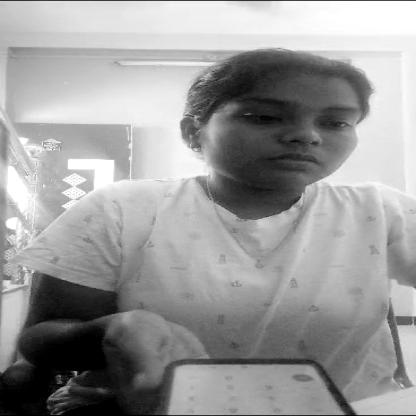Distracted: (180, 47, 391, 200)
